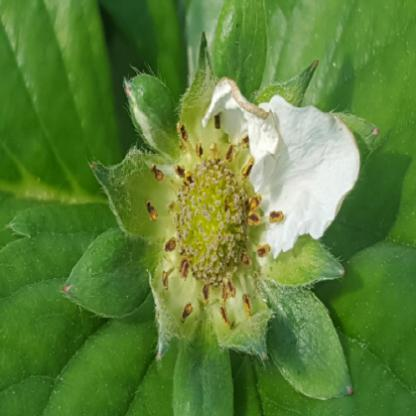Strawberry_Blossom_Blight: (138, 110, 288, 330)
